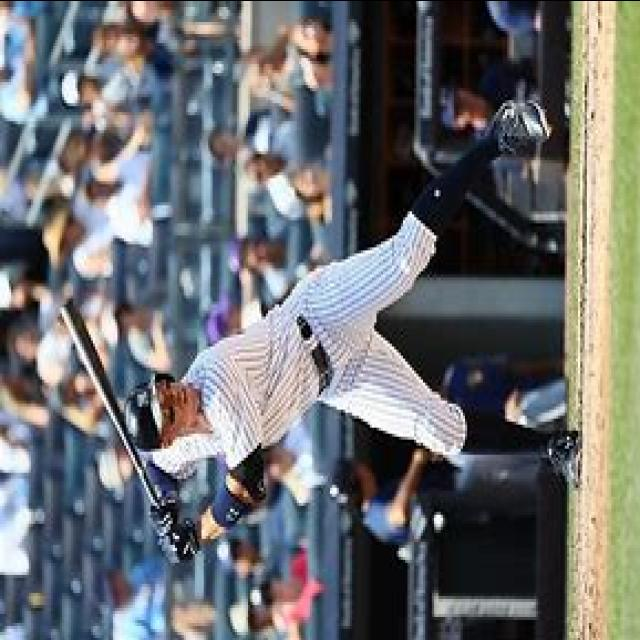bat: (55, 289, 165, 514)
